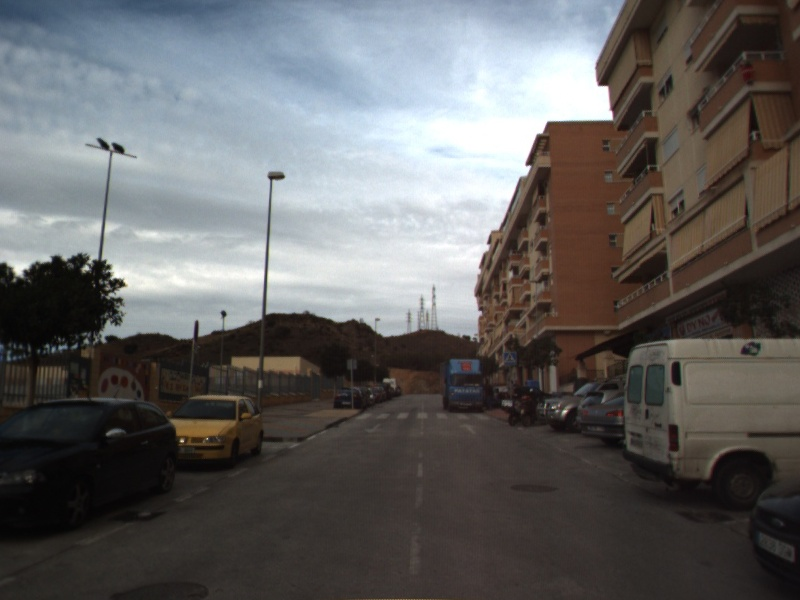STRAIGHT: (457, 421, 479, 436)
